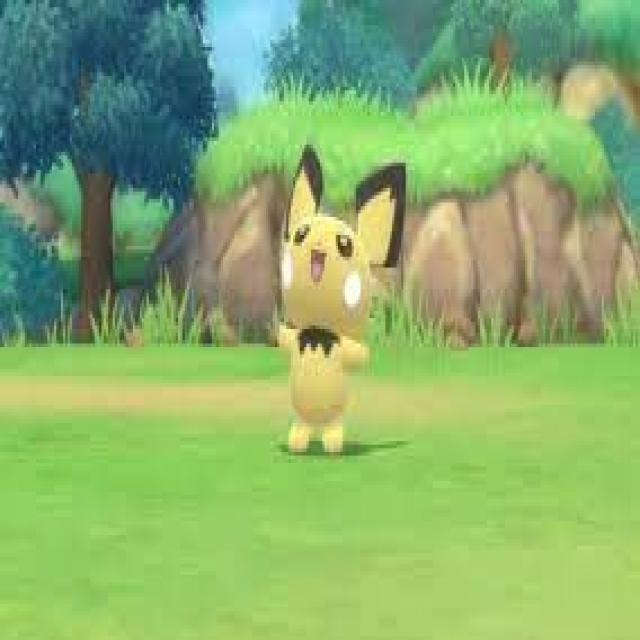pichu: (264, 157, 407, 470)
